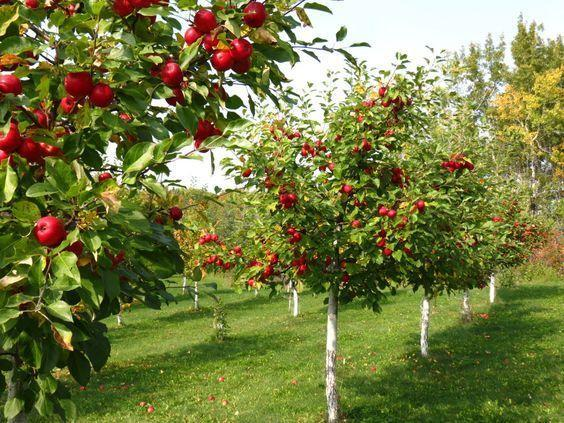apple: (33, 216, 65, 246), (62, 71, 93, 97), (159, 61, 182, 86), (88, 83, 112, 106), (1, 73, 22, 95)
